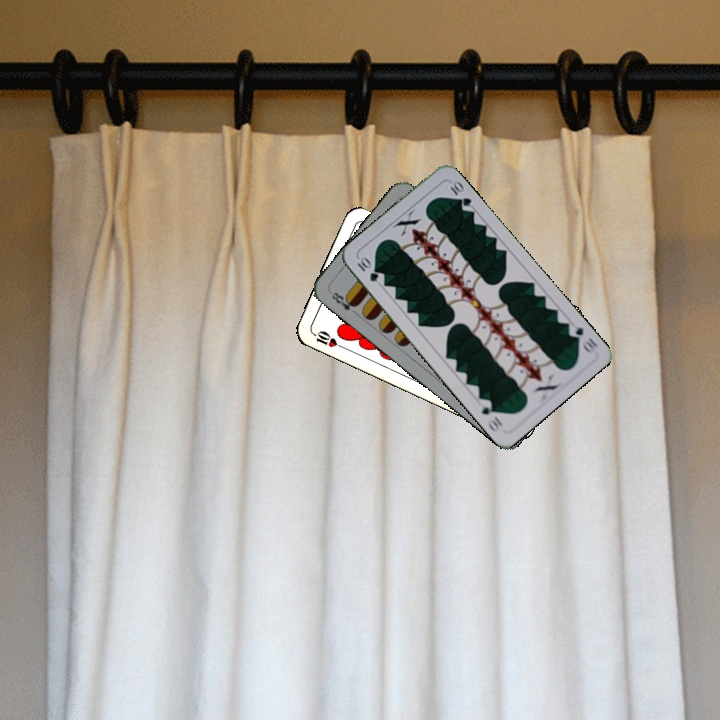E8: (327, 288, 360, 318)
G10: (564, 319, 600, 355), (353, 253, 381, 284)
H10: (308, 326, 346, 351)
